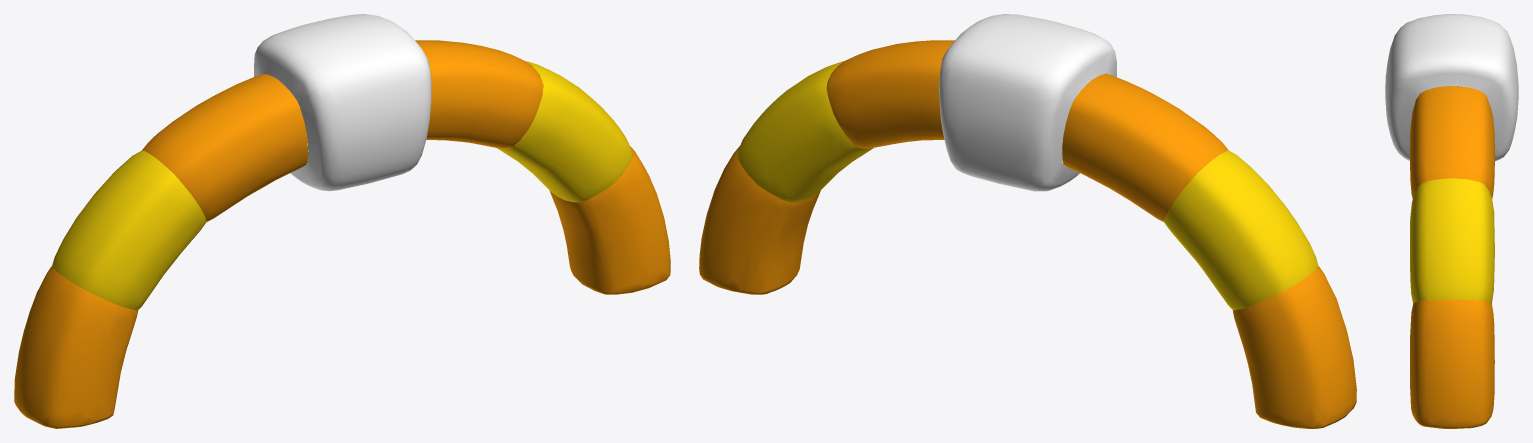
File: Start.fbx
3 views of the same model, side by side, from view 1: azimuth 30°, elevation 25°; view 2: azimuth 150°, elevation 25°; view 3: azimuth 270°, elevation 25° (orthographic). The views are drawn at different scales.
Parts seen in each view (by area): view 1: Start; view 2: Start; view 3: Start.
Part boxes in pixels (left/top/right/bottom): Start: left=14, top=14, right=670, bottom=428; Start: left=699, top=14, right=1356, bottom=428; Start: left=1385, top=14, right=1518, bottom=428.
Bounding box in the file's own units: 6011 × 2810 × 1269.
